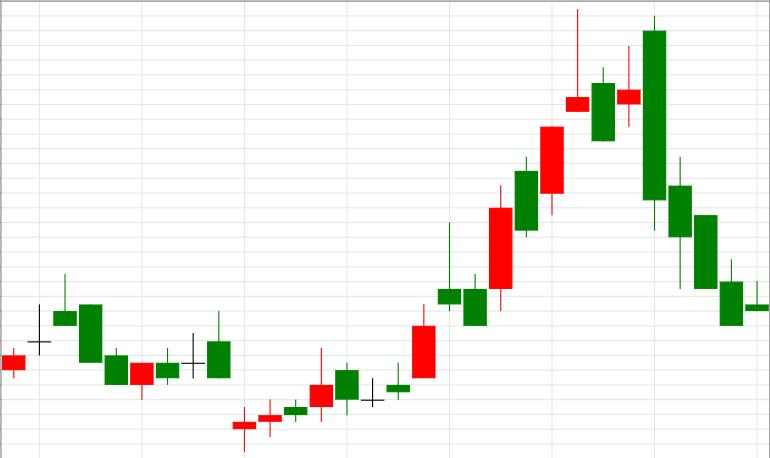bearish_engulfing_fall: (489, 9, 666, 312)
